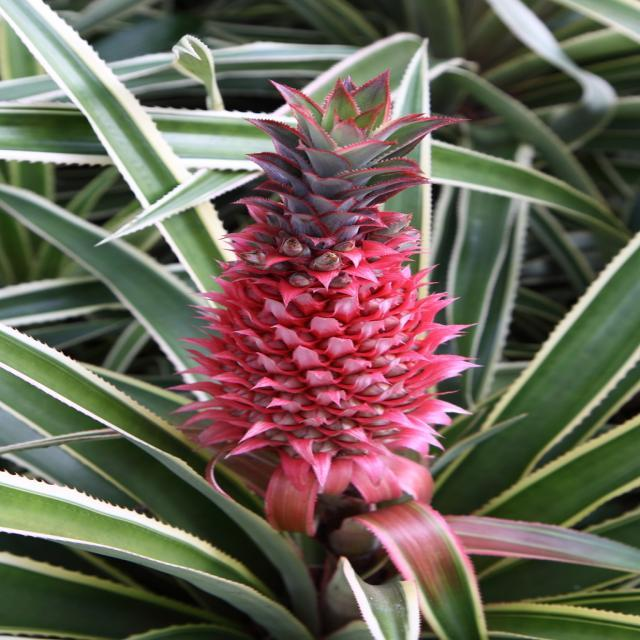Pineapple: (165, 68, 473, 494)
